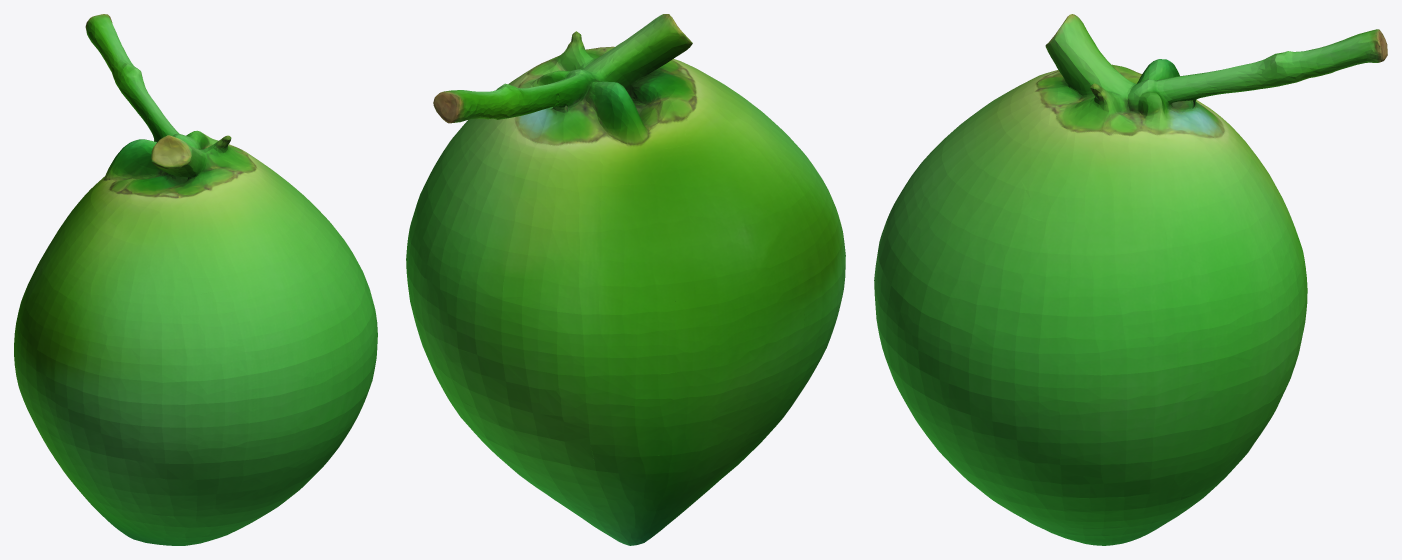
The model's file is dua.glb.
3 renders of one model, left to right at view 1: azimuth 30°, elevation 25°; view 2: azimuth 150°, elevation 25°; view 3: azimuth 270°, elevation 25°, orthographic. The views are drawn at different scales.
Visible parts, largest first — view 1: world; view 2: world; view 3: world.
Part boxes in pixels (box(x1,y1,x2,y2)): world: box(14, 14, 377, 545); world: box(406, 14, 845, 545); world: box(874, 14, 1387, 545).
Bounding box in the file's own units: 0.7661 × 0.9997 × 0.8806.
1 material, 1 textured.
